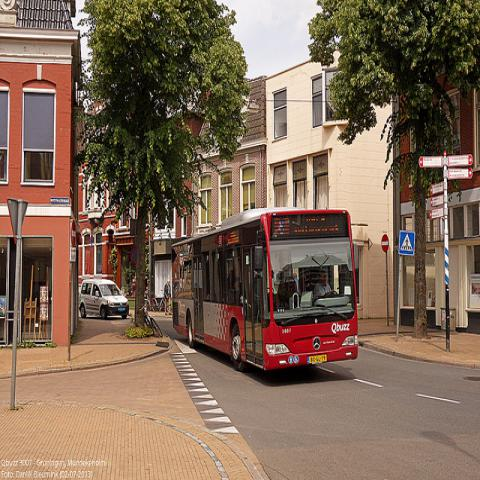bus: (171, 207, 358, 376)
car: (79, 280, 131, 319)
